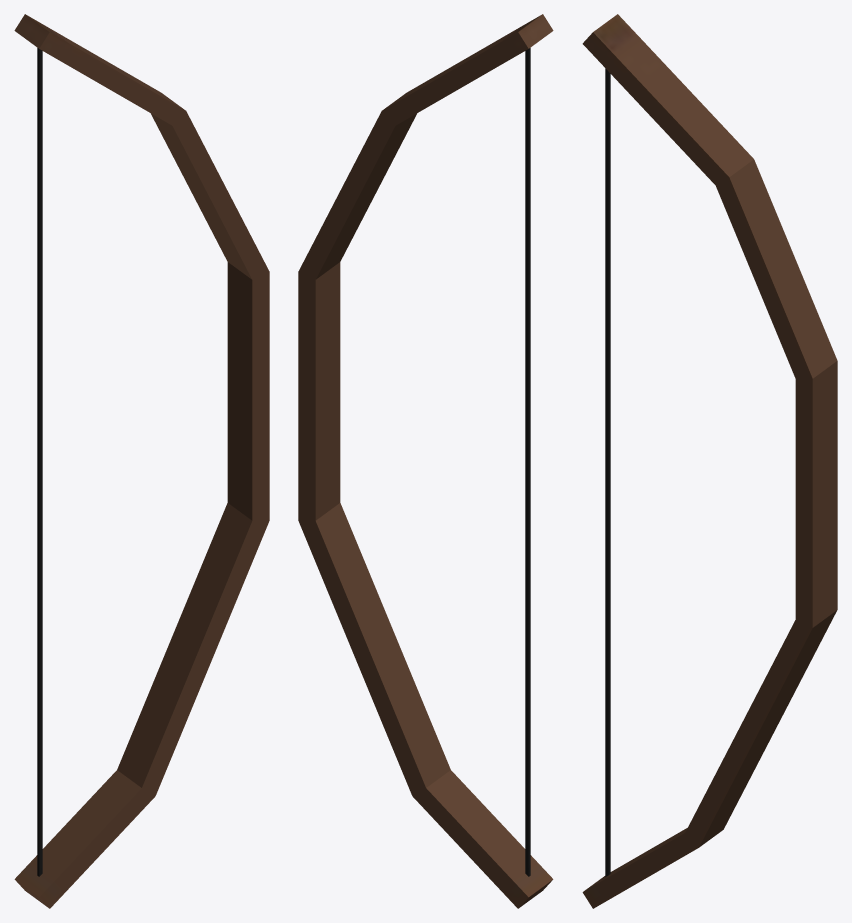
File: Bow.fbx
3 views of the same model, side by side, from view 1: azimuth 30°, elevation 25°; view 2: azimuth 150°, elevation 25°; view 3: azimuth 330°, elevation 25° (orthographic).
Parts seen in each view (by area): view 1: Bow_Baked; view 2: Bow_Baked; view 3: Bow_Baked.
Boxes of the visible parts, x1,y1,x2,y2 form: Bow_Baked: (14, 14, 269, 908); Bow_Baked: (298, 14, 553, 908); Bow_Baked: (582, 14, 837, 908).
Size of the model in its own units: 32.17 by 117 by 6.
Materials: 1 (1 with a texture image).
